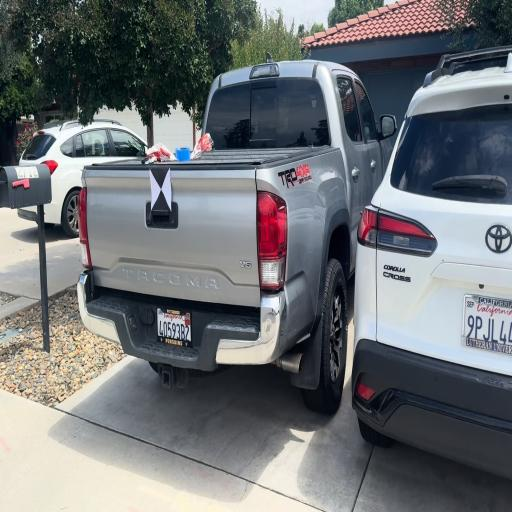target: (150, 169, 171, 211)
